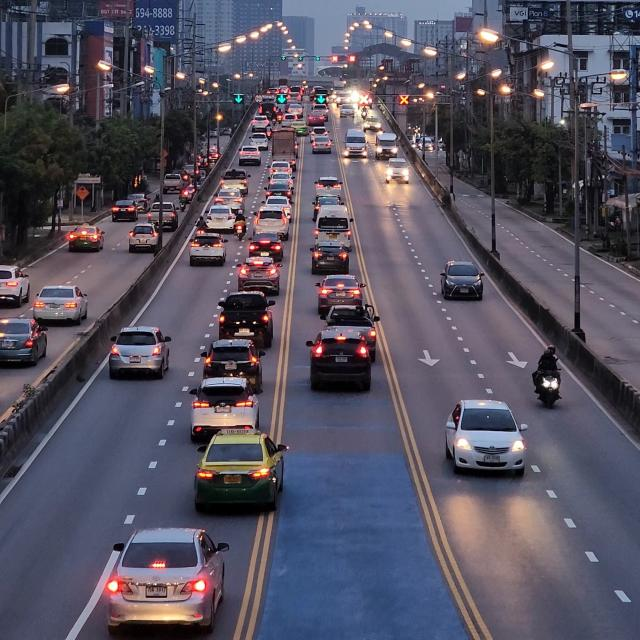Car: (105, 524, 229, 634), (196, 427, 292, 505), (438, 397, 528, 478), (184, 381, 268, 442), (305, 327, 375, 392), (215, 292, 278, 349), (198, 341, 266, 392), (108, 324, 172, 376), (2, 317, 49, 369), (314, 273, 369, 313), (36, 284, 91, 324), (439, 259, 486, 303), (236, 256, 283, 290), (310, 243, 357, 277), (188, 232, 227, 266), (70, 220, 104, 254)
